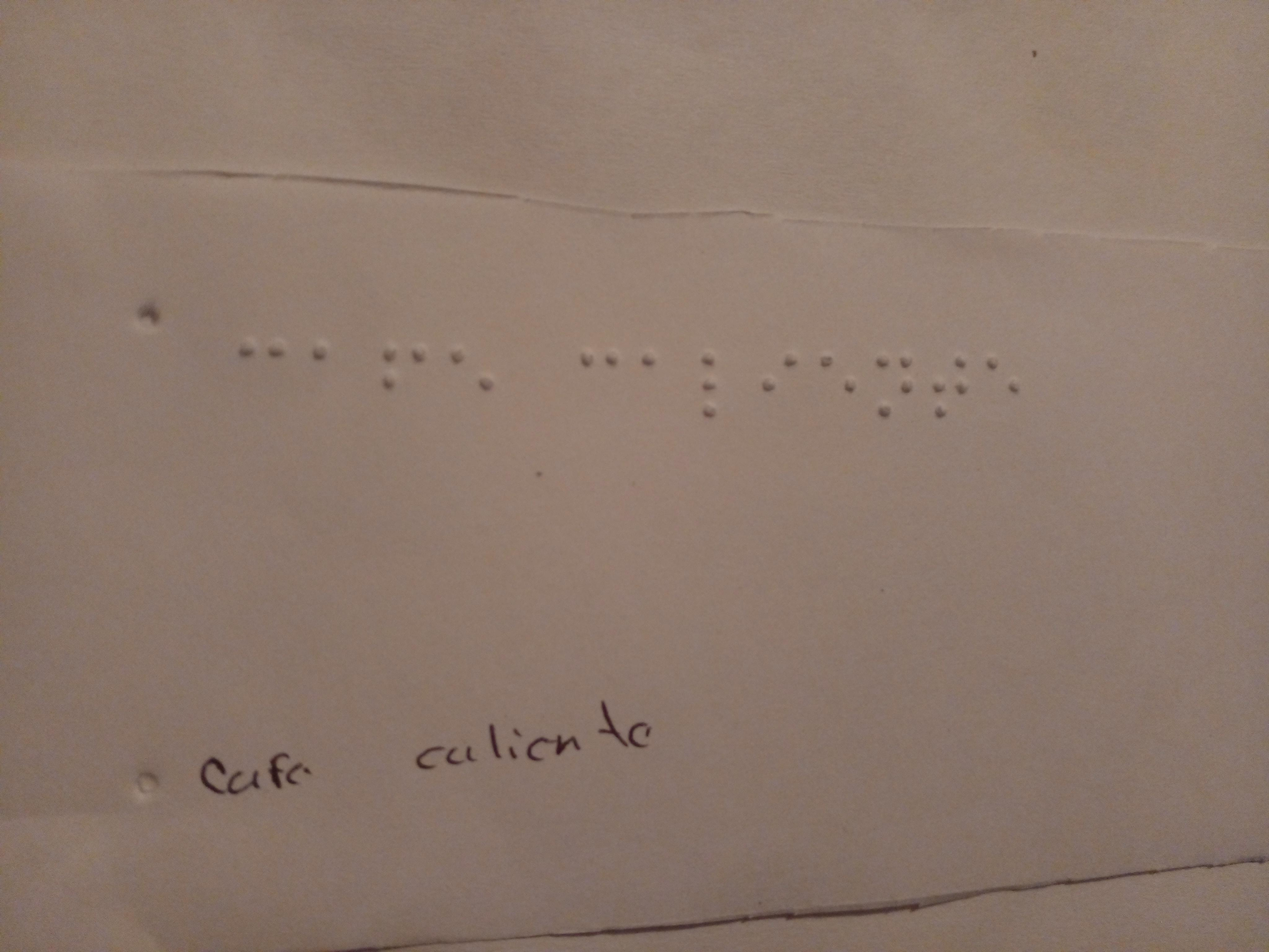a: (632, 333, 672, 395), (297, 333, 342, 384)
c: (232, 322, 293, 397), (567, 325, 624, 400)
e: (443, 333, 503, 411), (813, 347, 861, 417), (977, 346, 1024, 412)
f: (370, 338, 435, 409)
i: (751, 341, 802, 421)
l: (682, 344, 733, 432)
n: (872, 346, 919, 434)
t: (931, 347, 974, 425)
